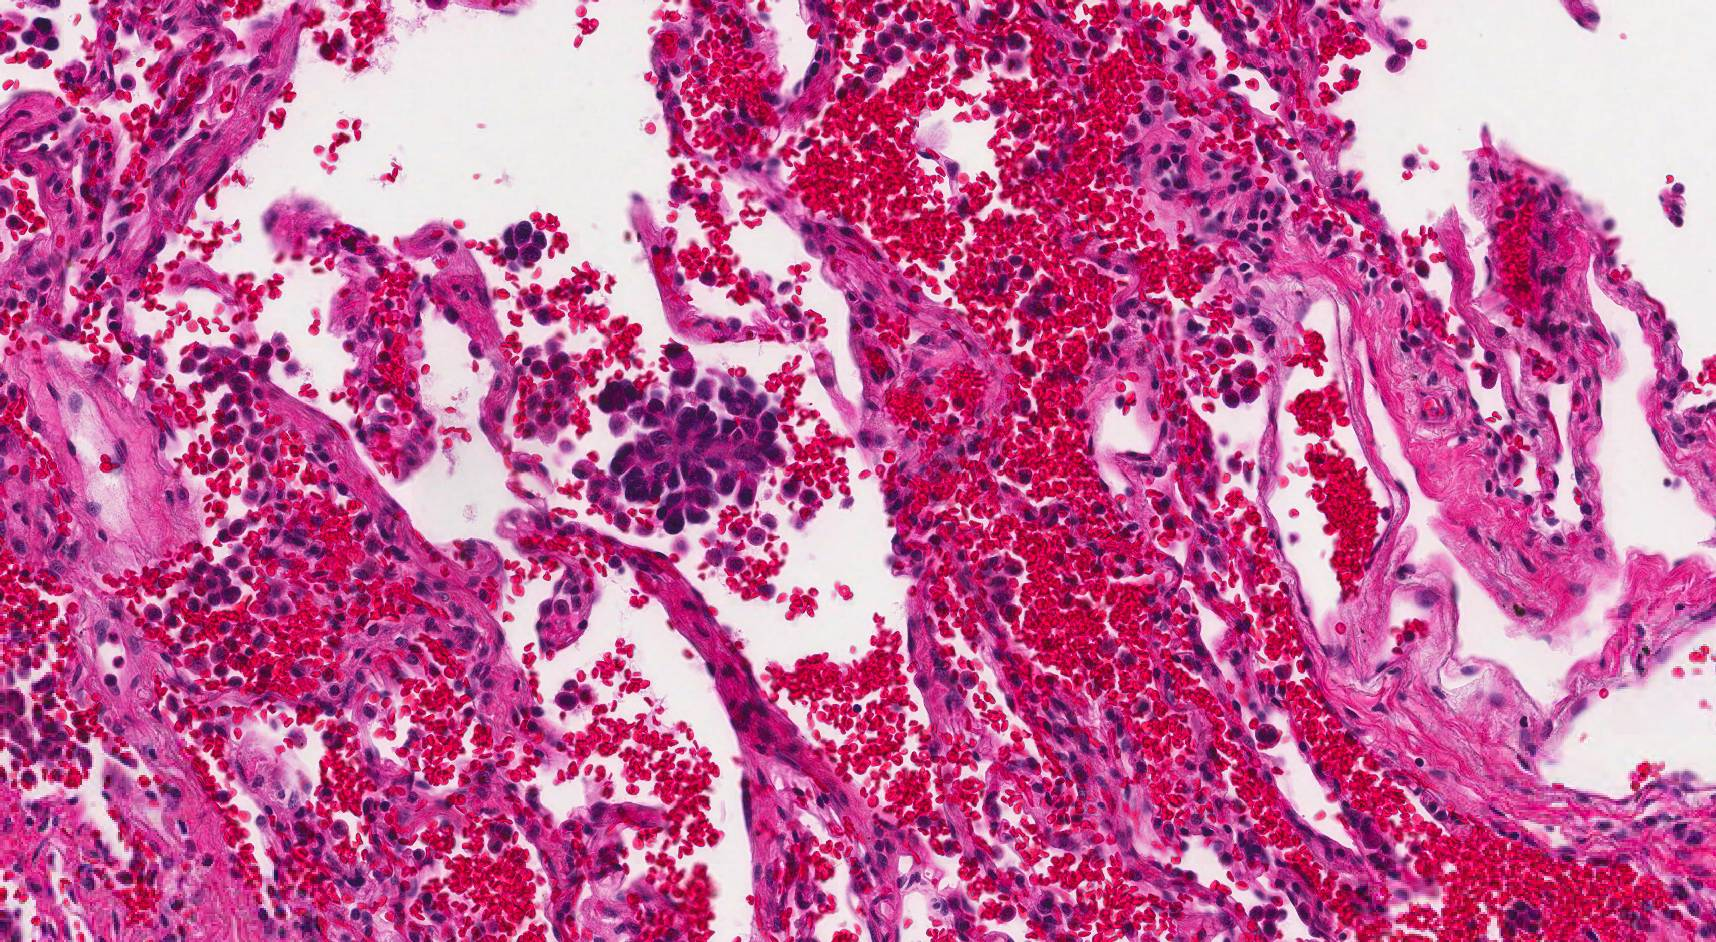stas: (596, 368, 790, 535), (500, 222, 550, 269)
